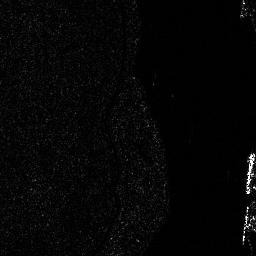ship: (243, 151, 256, 197)
